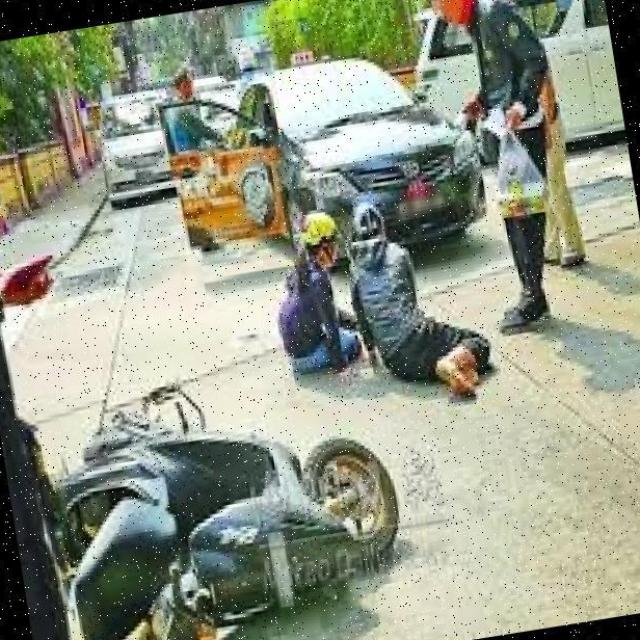accident: (11, 332, 432, 640)
